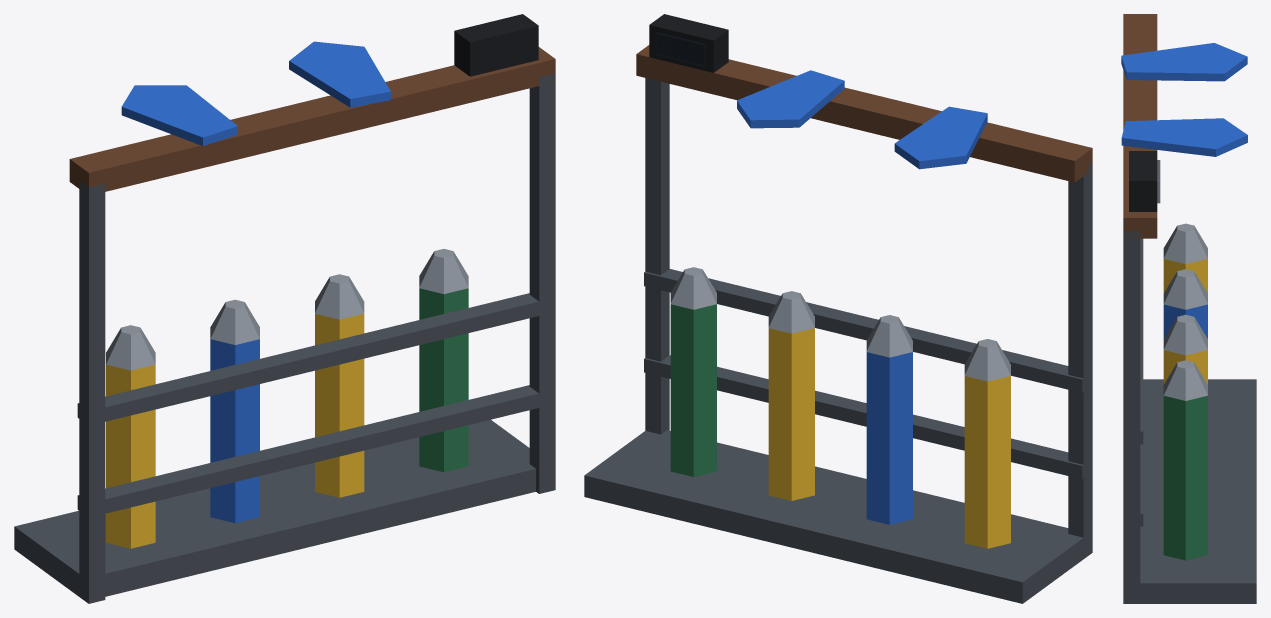
The model's file is scuba_rack.glb.
3 renders of one model, left to right at view 1: azimuth 30°, elevation 25°; view 2: azimuth 150°, elevation 25°; view 3: azimuth 270°, elevation 25°, orthographic. The views are drawn at different scales.
Visible parts, largest first — view 1: Body; view 2: Body; view 3: Body.
Boxes of the visible parts, bbox=[...] form: Body: bbox=[14, 14, 555, 603]; Body: bbox=[584, 14, 1092, 603]; Body: bbox=[1121, 14, 1256, 603].
Size of the model in its own units: 1.7 by 1.62 by 0.4776.
